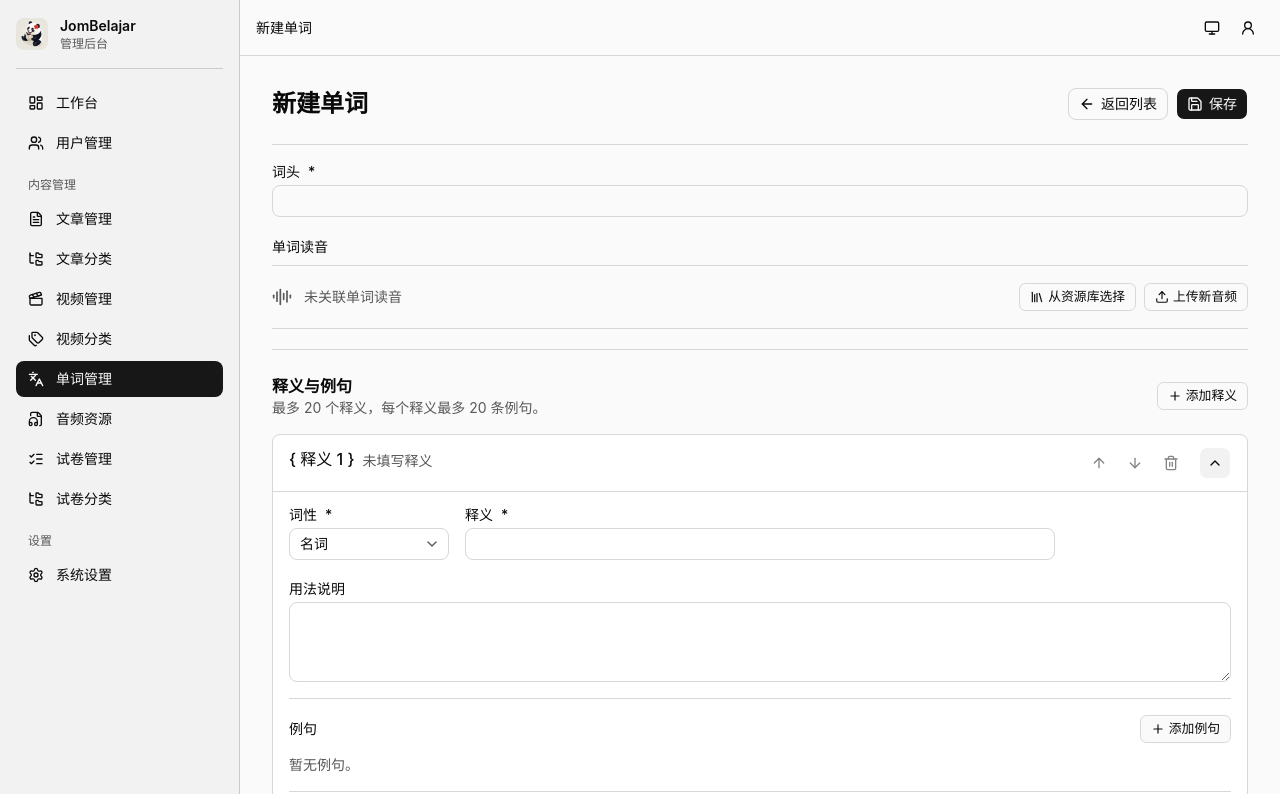
Test case: WordEditor › keeps invalid required content local
The image size is (1280, 794).
Type "hello" into the field labelled "词头 *" at (760, 201), box left=272, top=185, right=1248, bottom=217
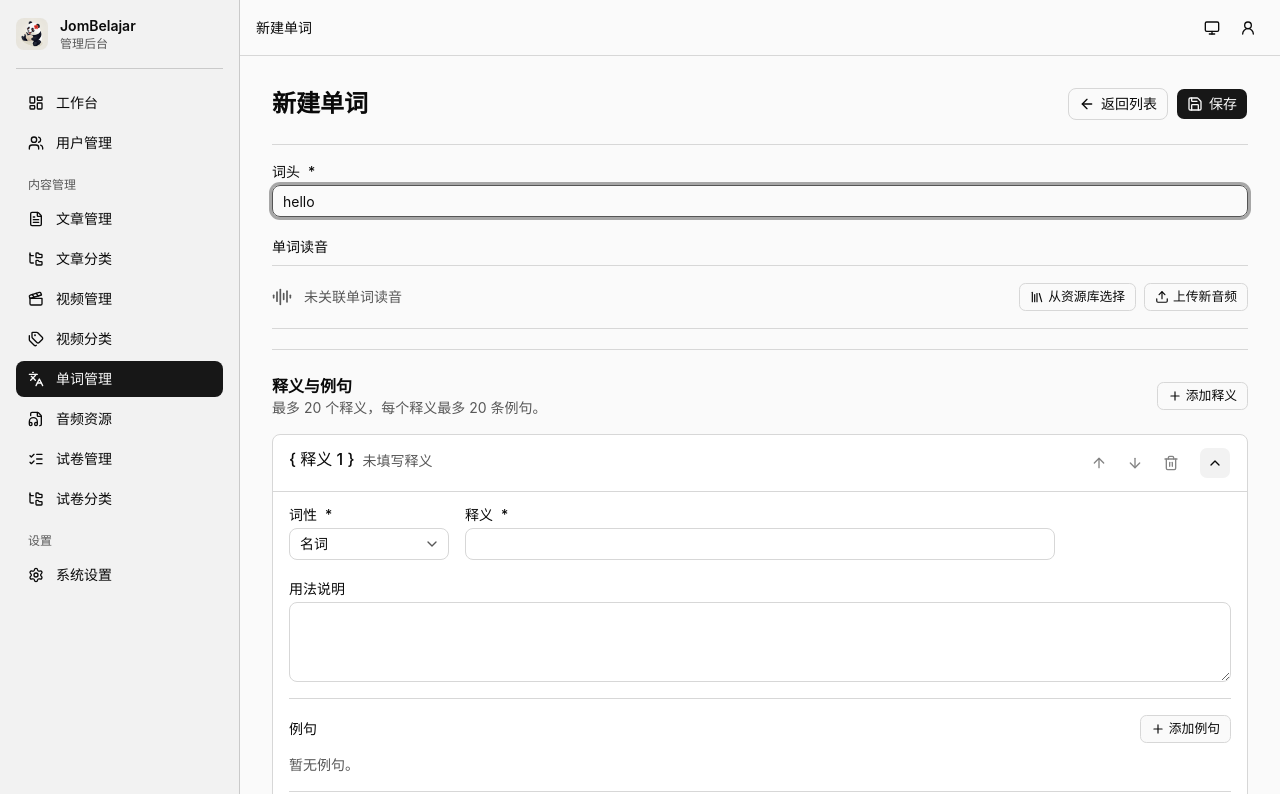
Click the button "保存" at (1212, 104), box left=1176, top=88, right=1248, bottom=120
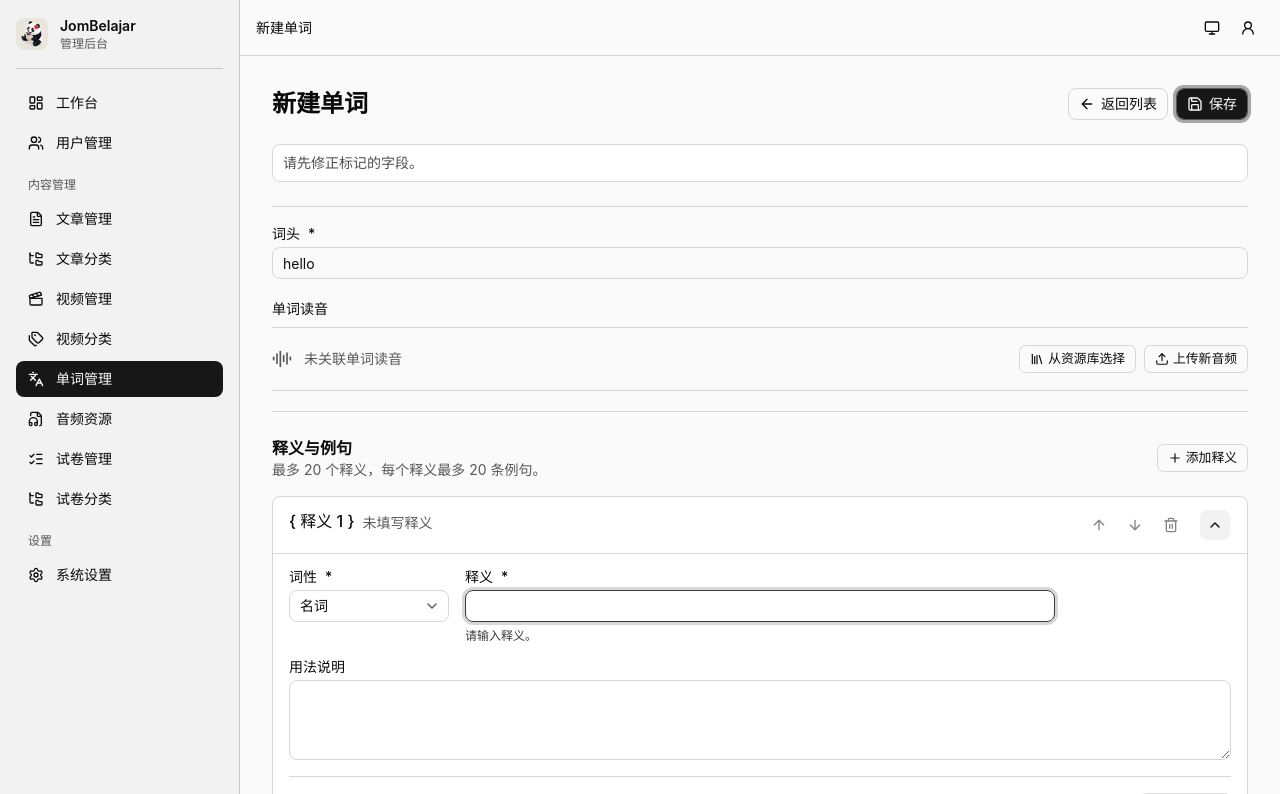
Expected: the text "请先修正标记的字段。" is shown, left=283, top=154, right=423, bottom=171
Expected: the text "请输入释义。" is shown, left=465, top=628, right=537, bottom=643
